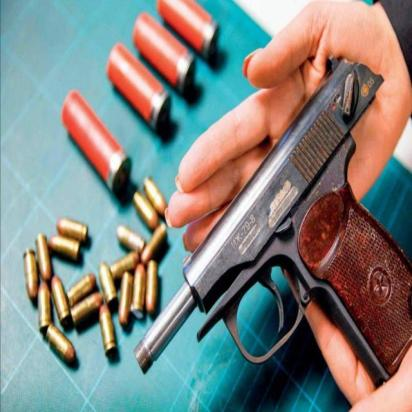Gun: (127, 51, 412, 389)
